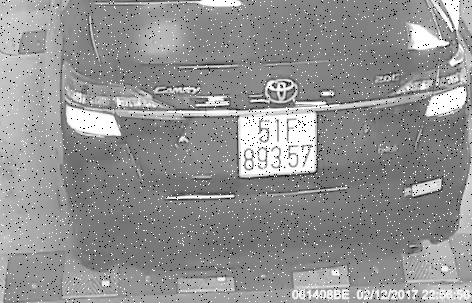License-plate: (238, 108, 328, 180)
